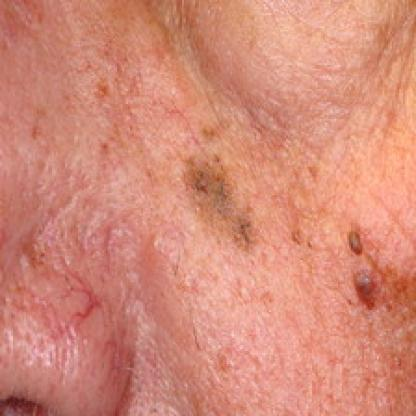Skin_Cancer-Malignant: (181, 153, 260, 256)
